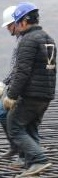boots: (8, 157, 25, 169), (1, 147, 19, 157)
gloves: (2, 95, 17, 110), (0, 80, 9, 99)
hard-hat: (0, 66, 11, 93)
